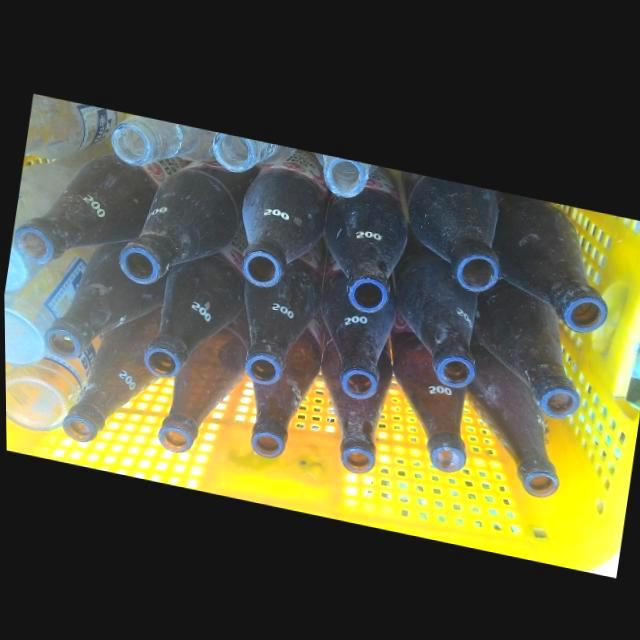glass_bottle: (13, 150, 192, 264), (116, 162, 259, 284), (142, 218, 248, 377), (493, 186, 609, 327), (43, 241, 167, 361), (473, 274, 579, 413), (61, 304, 165, 442), (466, 339, 559, 493), (154, 311, 248, 452), (323, 162, 410, 309), (387, 312, 469, 467), (240, 147, 332, 285), (396, 228, 477, 383), (401, 167, 503, 288), (243, 240, 327, 381), (249, 307, 325, 456), (320, 248, 396, 396), (320, 328, 391, 470), (109, 114, 215, 165), (212, 131, 298, 170), (315, 150, 378, 195)
